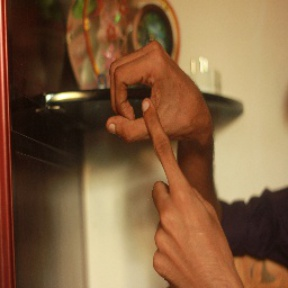Q: (103, 41, 209, 234)
